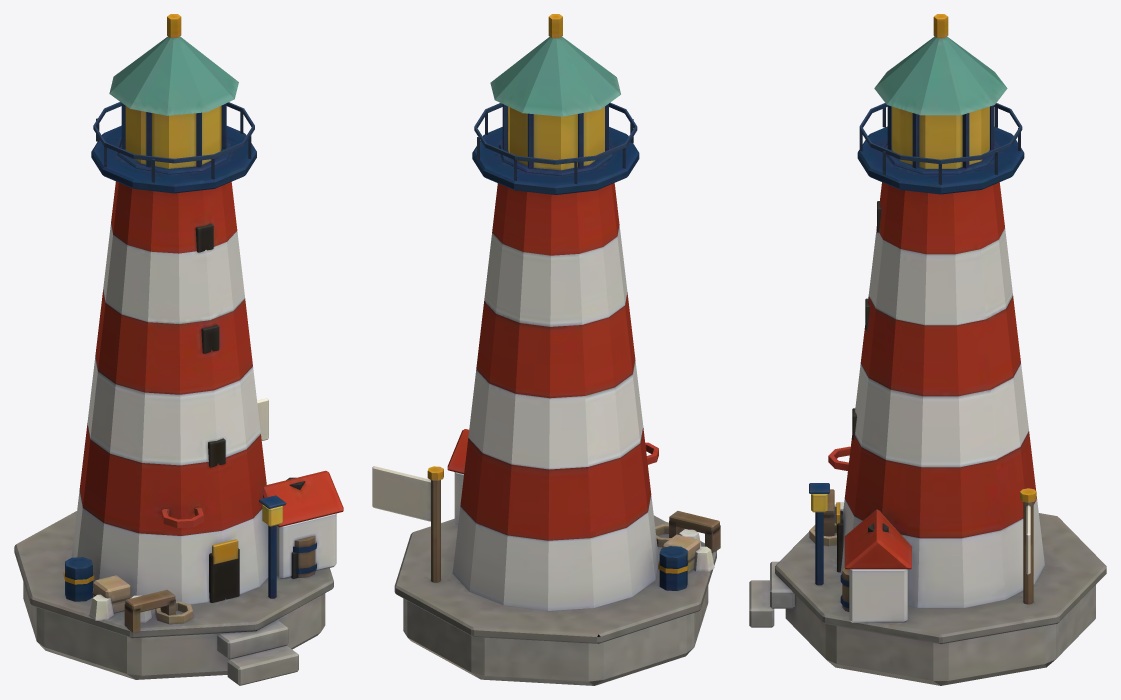
File: lighthouse-10.glb
3 views of the same model, side by side, from view 1: azimuth 30°, elevation 25°; view 2: azimuth 150°, elevation 25°; view 3: azimuth 270°, elevation 25° (orthographic).
Visible parts, largest first — view 1: lighthouse-10; view 2: lighthouse-10; view 3: lighthouse-10.
Part boxes in pixels (left/top/right/bottom): lighthouse-10: left=14, top=14, right=343, bottom=685; lighthouse-10: left=372, top=14, right=720, bottom=685; lighthouse-10: left=749, top=14, right=1106, bottom=685.
Size of the model in its own units: 1.59 by 3.21 by 1.72.
Materials: 1 (1 with a texture image).
